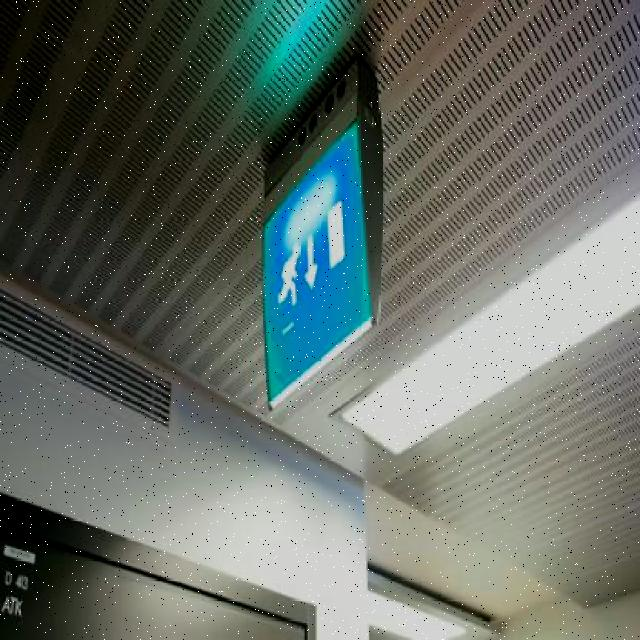emergency_exit: (259, 59, 384, 410)
